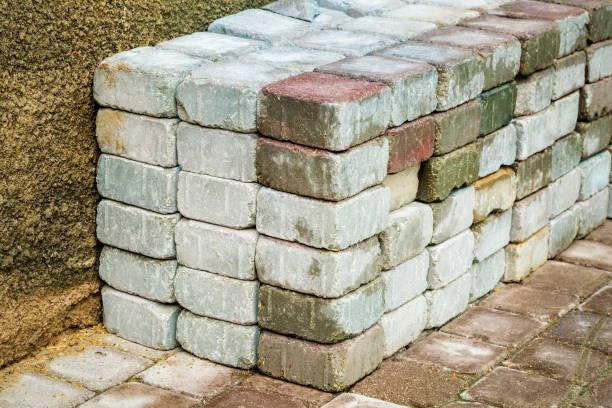Bricks: (264, 69, 395, 150), (170, 58, 305, 135), (254, 322, 394, 395), (261, 273, 393, 349), (93, 44, 212, 121), (253, 184, 397, 246), (255, 134, 390, 200), (318, 53, 438, 119), (258, 235, 387, 296), (382, 41, 494, 102), (463, 13, 570, 75), (417, 29, 523, 85), (517, 173, 586, 241), (508, 0, 589, 54), (544, 187, 611, 252), (92, 293, 170, 348), (212, 6, 324, 43), (182, 317, 261, 366), (173, 223, 251, 269), (181, 128, 254, 177), (175, 177, 252, 223), (101, 112, 174, 159), (159, 27, 266, 59), (380, 208, 429, 277), (332, 11, 441, 42), (384, 257, 435, 319), (176, 277, 255, 317), (521, 98, 573, 158), (434, 94, 485, 155), (293, 27, 394, 57), (99, 160, 171, 201), (244, 42, 345, 71), (101, 206, 165, 250), (103, 253, 175, 291), (427, 151, 480, 202), (391, 120, 439, 174), (386, 298, 427, 359), (426, 275, 470, 327), (474, 128, 522, 175), (479, 83, 525, 132), (475, 168, 513, 226), (506, 228, 546, 282), (431, 191, 475, 240), (380, 172, 430, 213), (550, 55, 589, 107), (519, 64, 555, 118), (515, 145, 553, 196), (433, 236, 470, 287), (477, 212, 511, 261), (468, 257, 506, 299), (577, 116, 611, 155), (578, 154, 608, 196), (583, 80, 611, 122), (556, 135, 580, 180), (587, 43, 611, 86)
